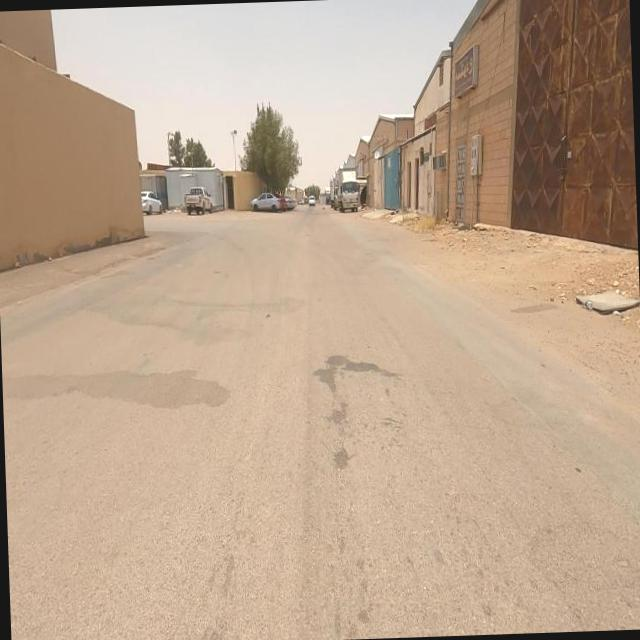debris: (534, 240, 640, 378)
